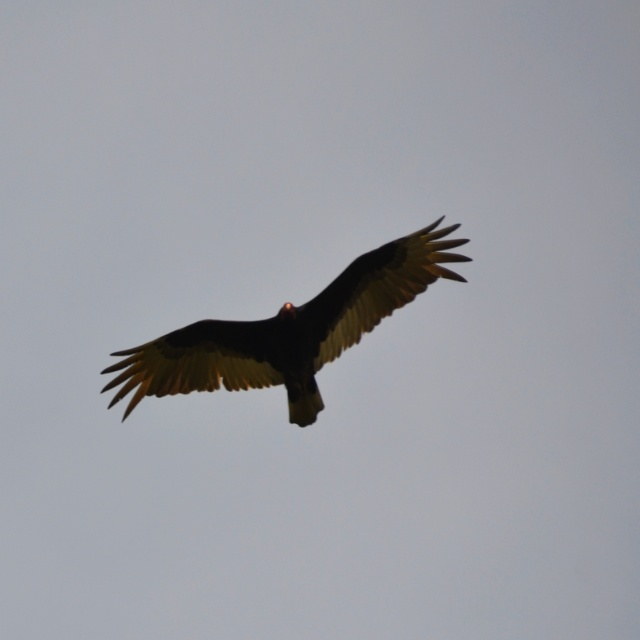Eagle: (97, 212, 478, 433)
